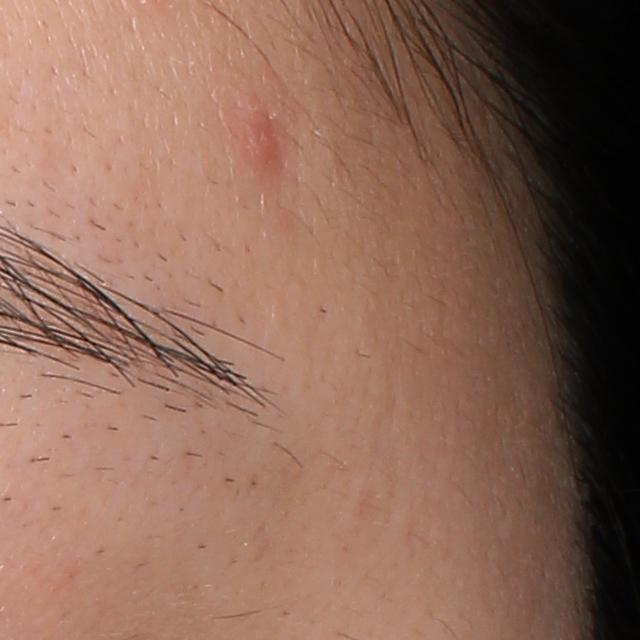papule: (250, 106, 288, 174)
